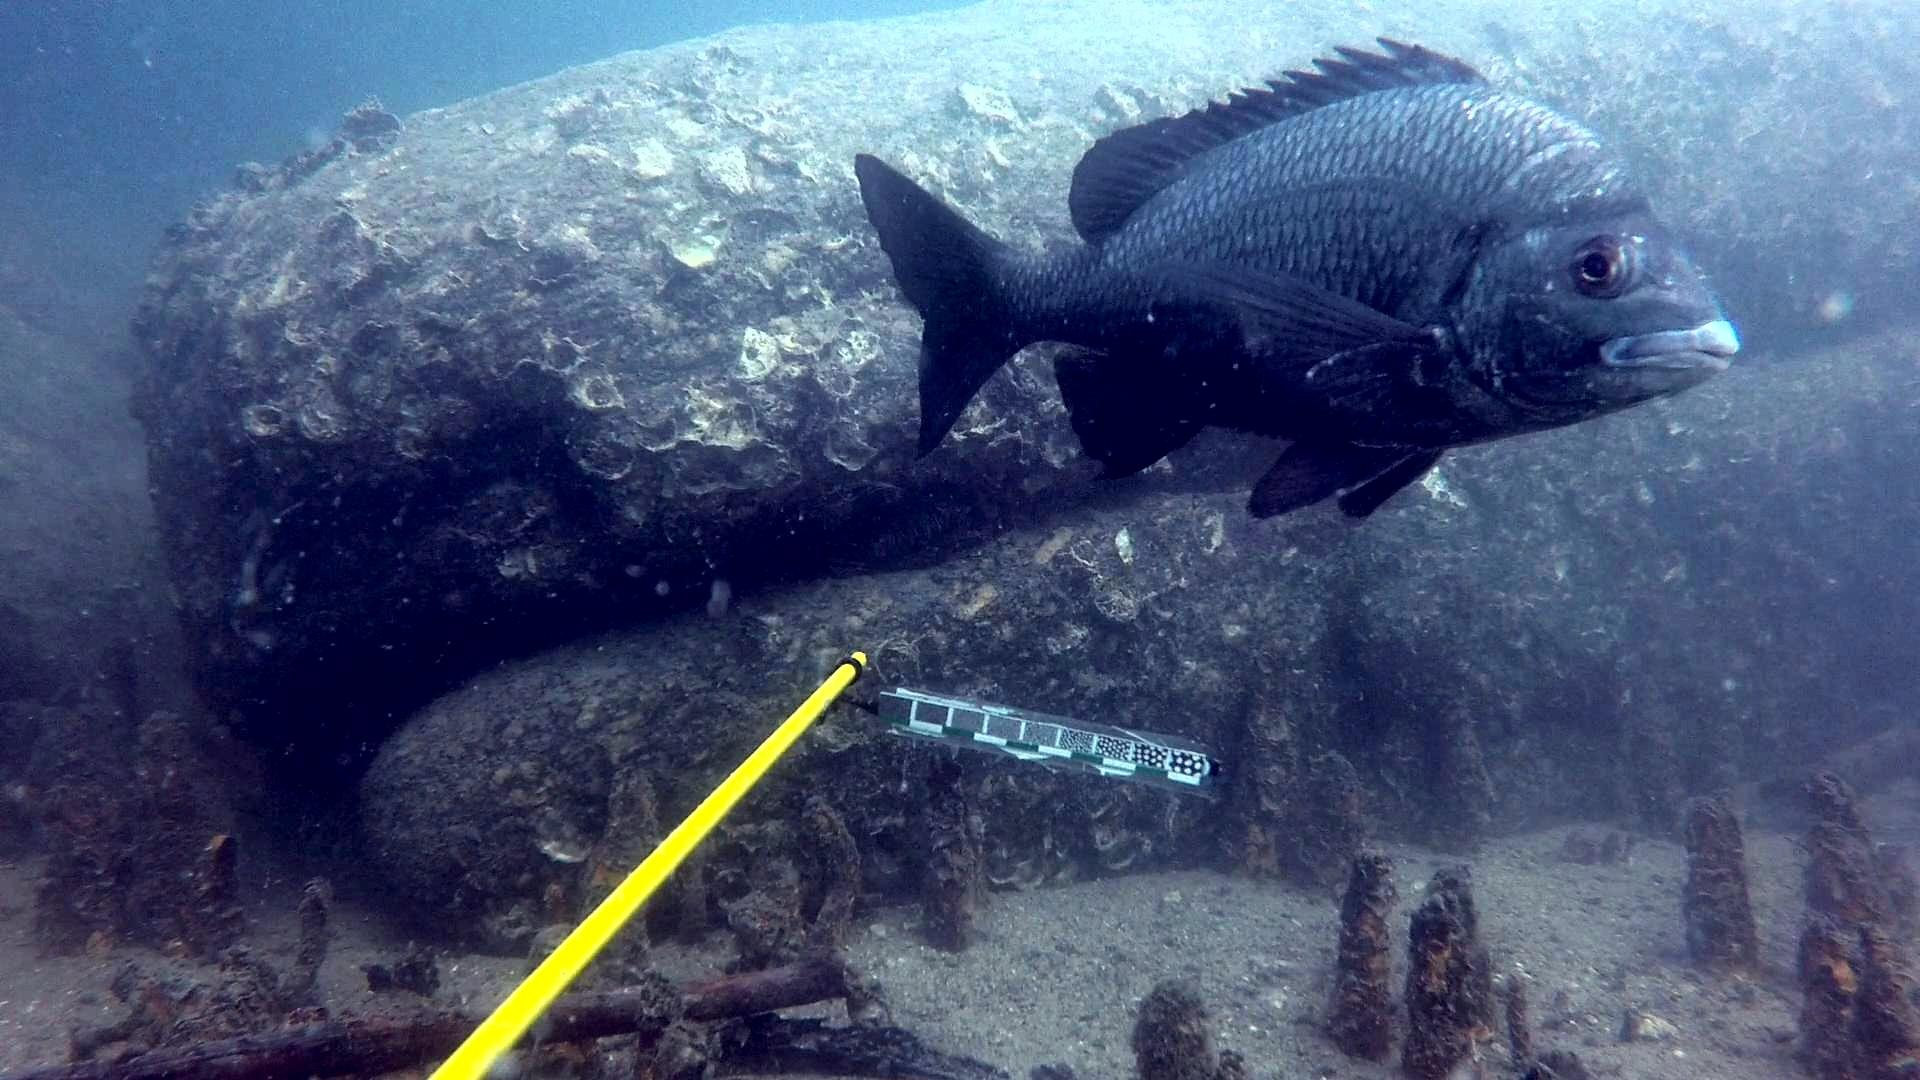acanthopagrus palmaris: (848, 22, 1747, 525)
